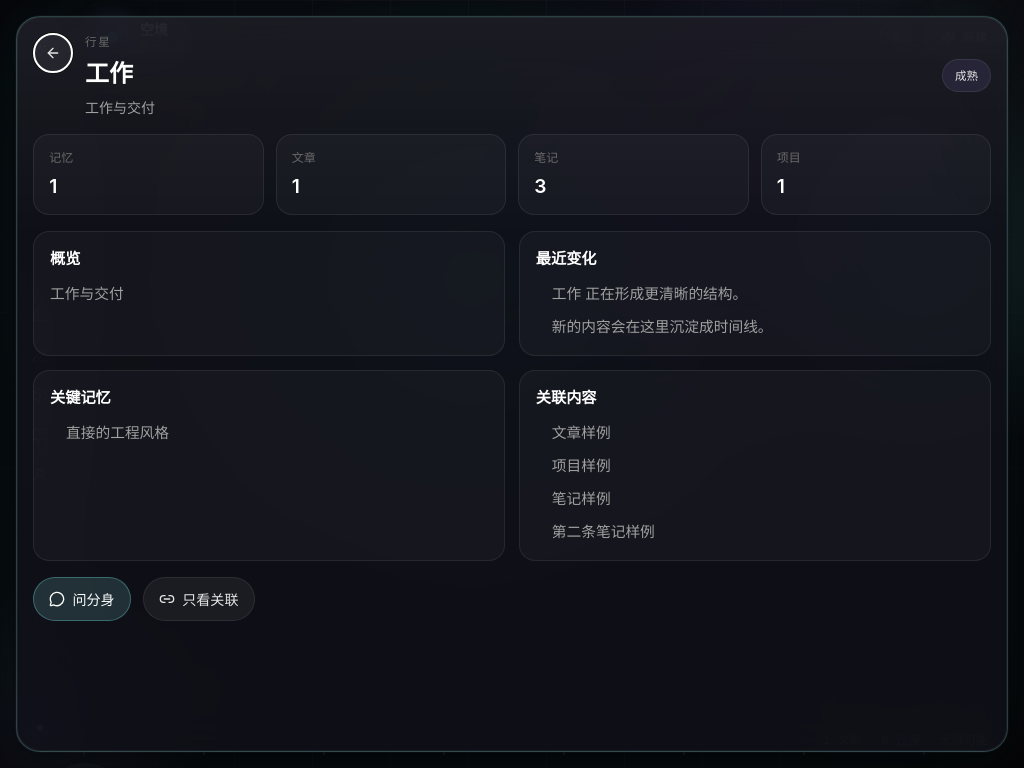
HomePageView › enters a planet detail overlay on planet double click and returns to the universe
Earlier steps of the test are not shown.
expect the heading "概览" is shown: met, box x1=50 y1=249 x2=80 y2=268
expect the heading "关键记忆" is shown: met, box x1=50 y1=388 x2=111 y2=407
Click the button named "返回宇宙" at (53, 53), box x1=33 y1=33 x2=73 y2=73
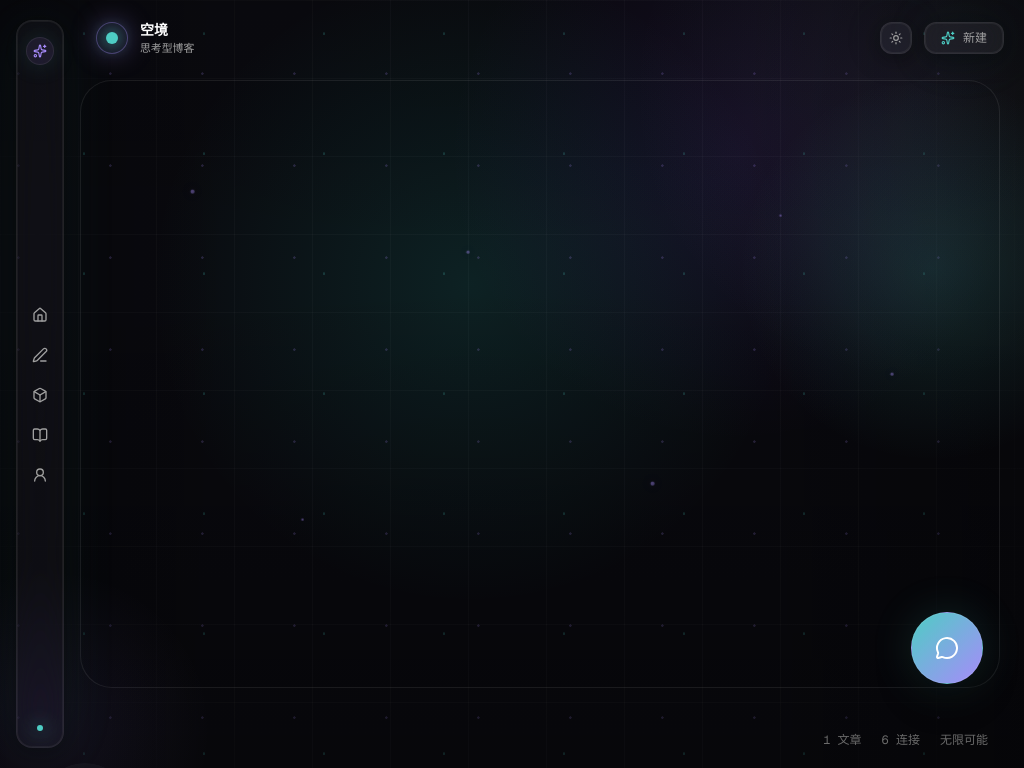
expect the element with test id "null-space-shell" has attribute data-view-state="overview": met
